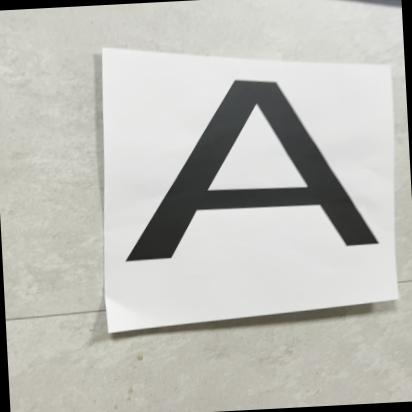seat: (112, 44, 382, 297)
